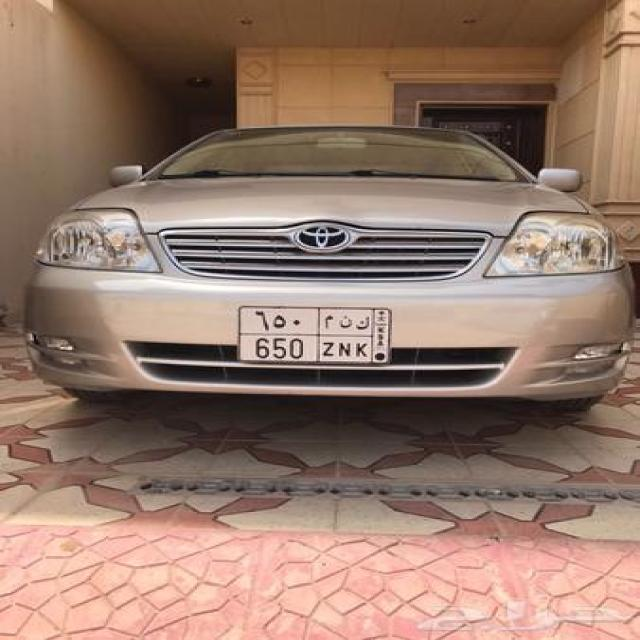license_plate: (237, 304, 396, 366)
